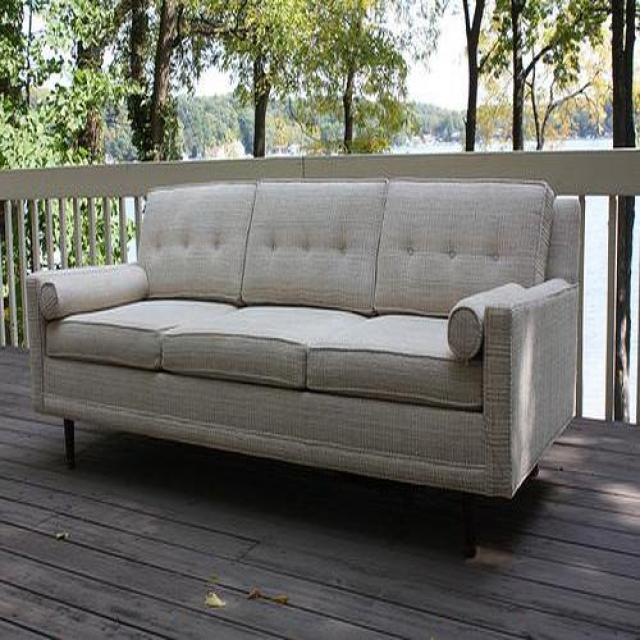sofa: (27, 179, 584, 561)
